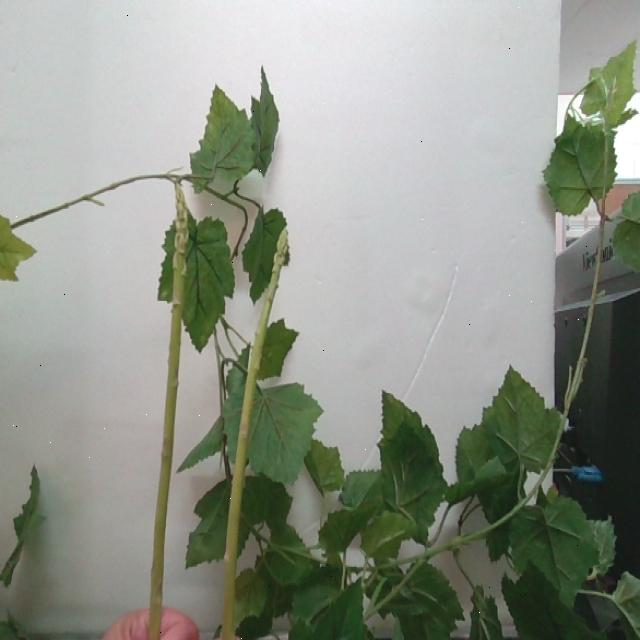aspargus: (221, 222, 289, 640), (148, 176, 187, 640)
